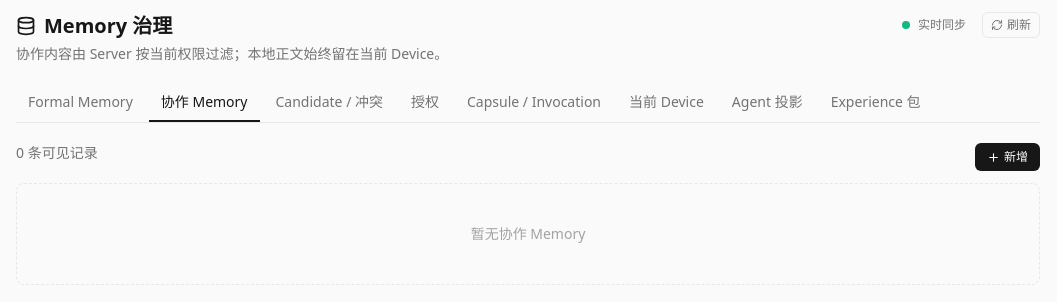
Test case: Agent Memory Projection consumption (issue #718 AC#6b) › shows error state on getConsumable failure
Click the button "Agent 投影": (767, 103) x1=720 y1=84 x2=815 y2=122
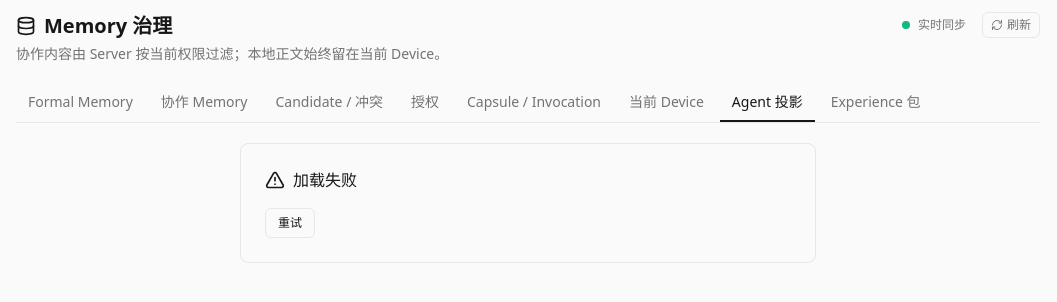
Expected: the text "加载失败" is shown, x1=265 y1=169 x2=357 y2=191
